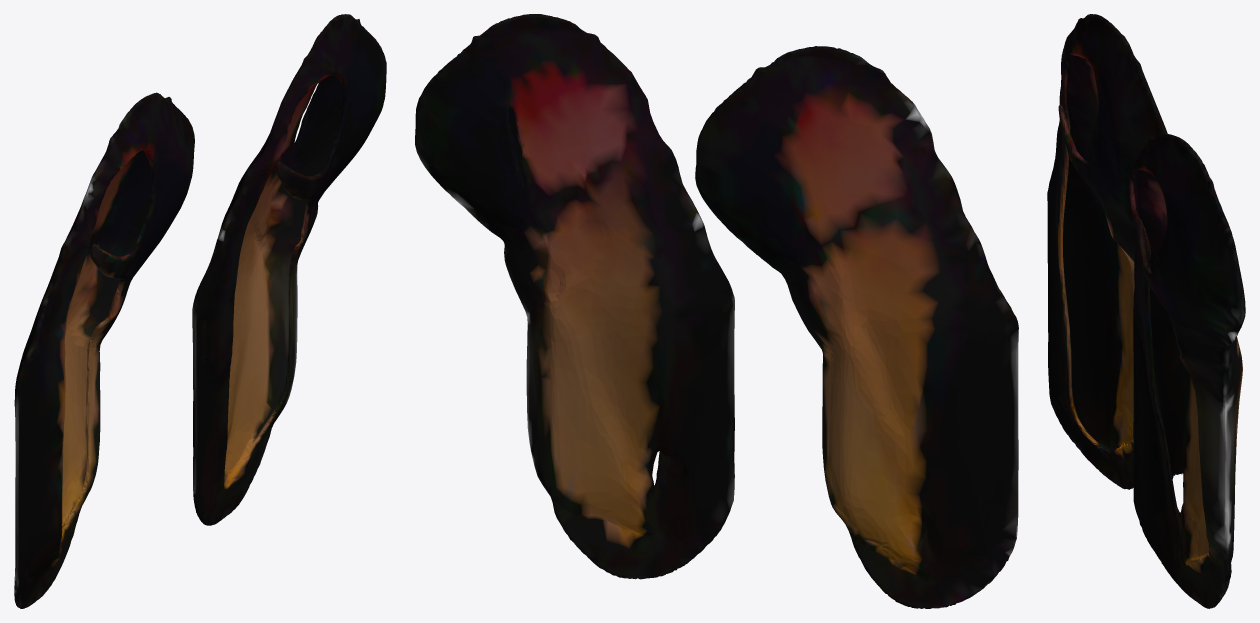
The model's file is low_boots.glb.
The picture shows the model from 3 angles, left to right: view 1: azimuth 30°, elevation 25°; view 2: azimuth 150°, elevation 25°; view 3: azimuth 270°, elevation 25°; orthographic projection. The views are drawn at different scales.
Parts seen in each view (by area): view 1: geometry_0; view 2: geometry_0; view 3: geometry_0.
Boxes of the visible parts, x1,y1,x2,y2 form: geometry_0: [14, 14, 386, 608]; geometry_0: [415, 14, 1018, 608]; geometry_0: [1047, 14, 1245, 608].
Size of the model in its own units: 0.5602 by 0.5625 by 0.1949.
